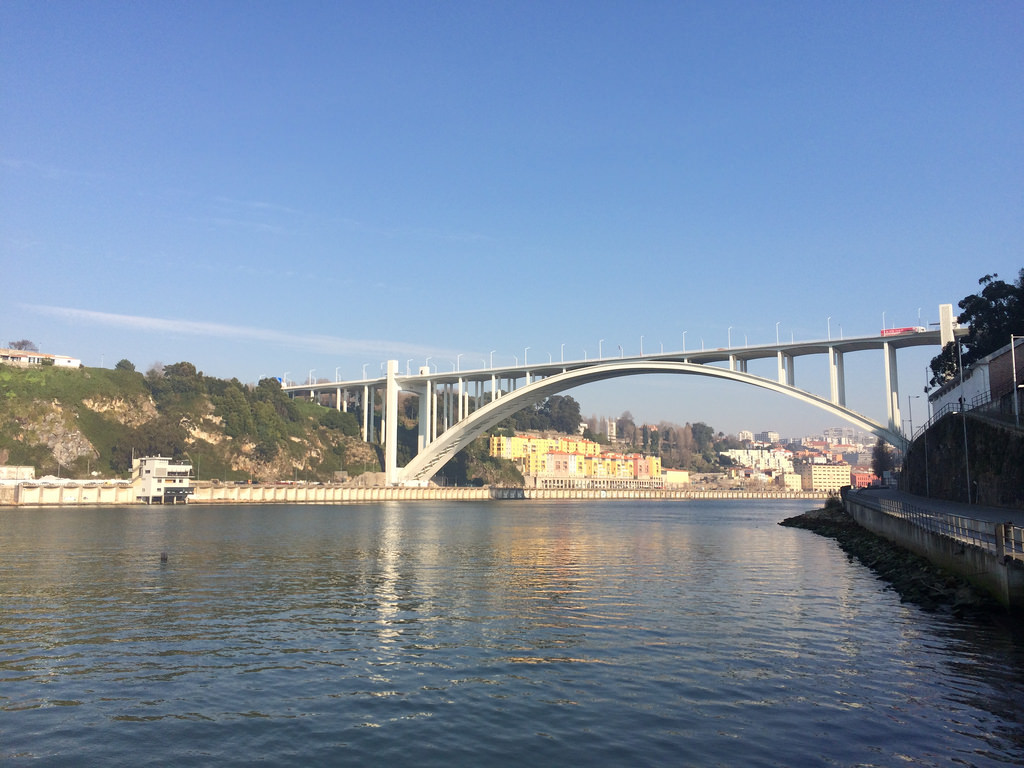arrabida: (276, 301, 967, 492)
